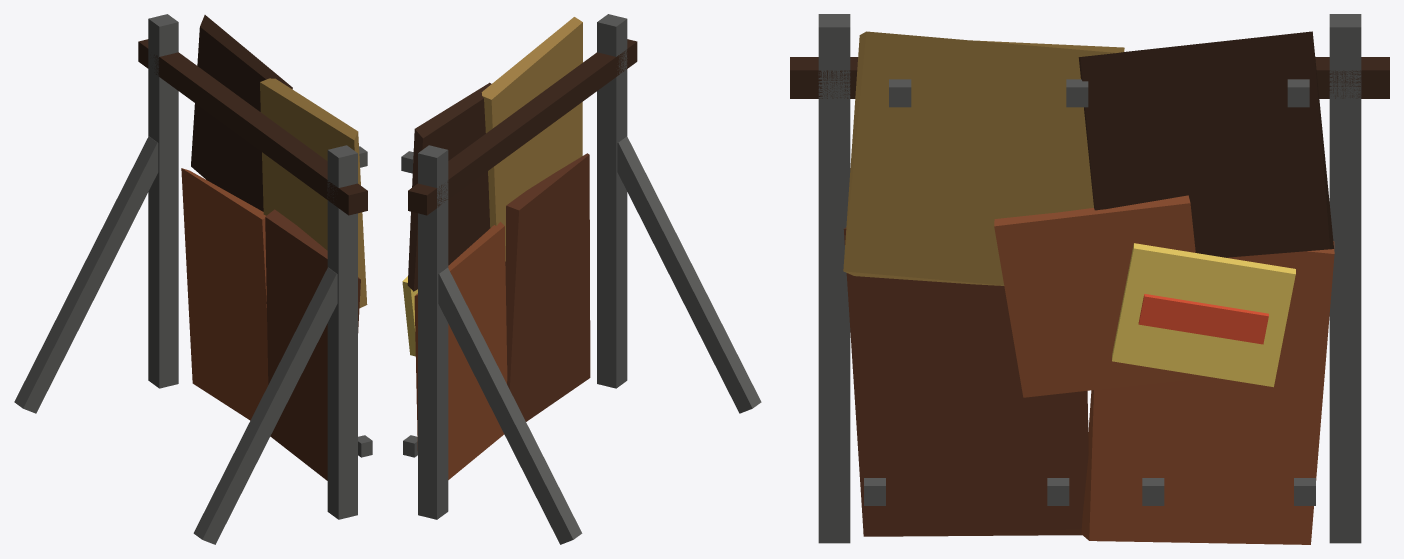
File: arm_scrap_panels.glb
The picture shows the model from 3 angles, left to right: view 1: azimuth 30°, elevation 25°; view 2: azimuth 150°, elevation 25°; view 3: azimuth 270°, elevation 25°; orthographic projection. The views are drawn at different scales.
Visible parts, largest first — view 1: arm_scrap_panels; view 2: arm_scrap_panels; view 3: arm_scrap_panels.
Boxes of the visible parts, left/top/right/bottom form: arm_scrap_panels: left=14, top=14, right=372, bottom=544; arm_scrap_panels: left=401, top=14, right=761, bottom=544; arm_scrap_panels: left=790, top=14, right=1389, bottom=544.
Size of the model in its own units: 0.5121 by 0.9175 by 0.948.
